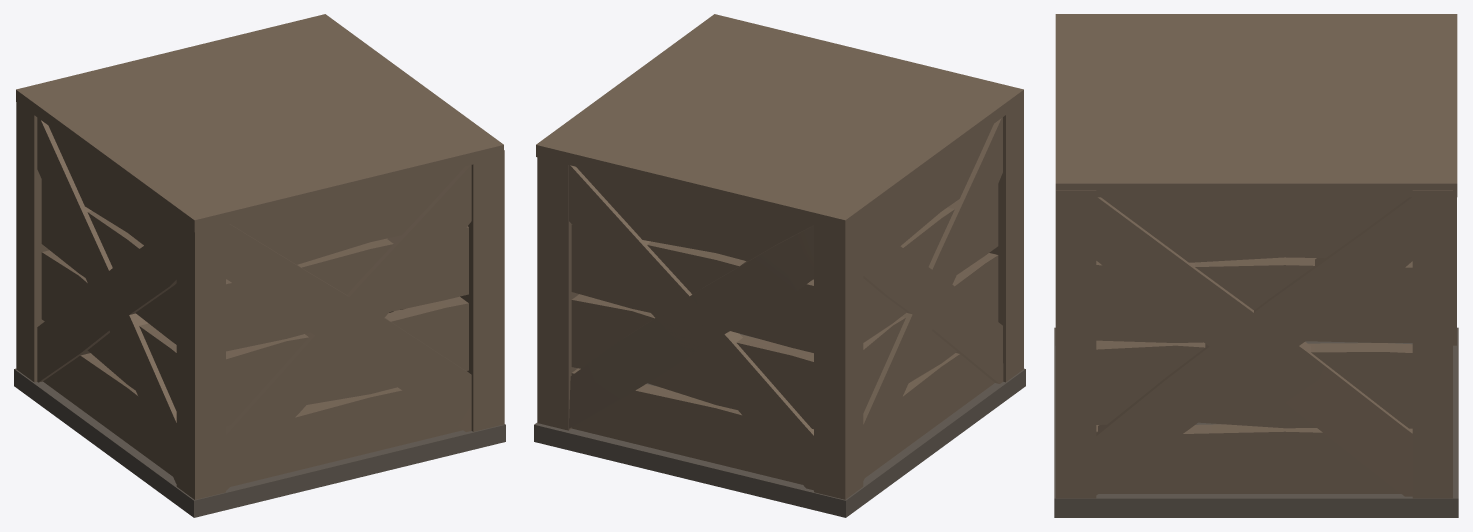
The model's file is Crate.fbx.
3 renders of one model, left to right at view 1: azimuth 30°, elevation 25°; view 2: azimuth 150°, elevation 25°; view 3: azimuth 270°, elevation 25°, orthographic. The views are drawn at different scales.
Visible parts, largest first — view 1: crate; view 2: crate; view 3: crate.
Part boxes in pixels (x1,y1,x2,y2): crate: (14, 14, 505, 517); crate: (534, 14, 1025, 517); crate: (1054, 14, 1458, 517).
Bounding box in the file's own units: 1.12 × 1.02 × 1.12.
